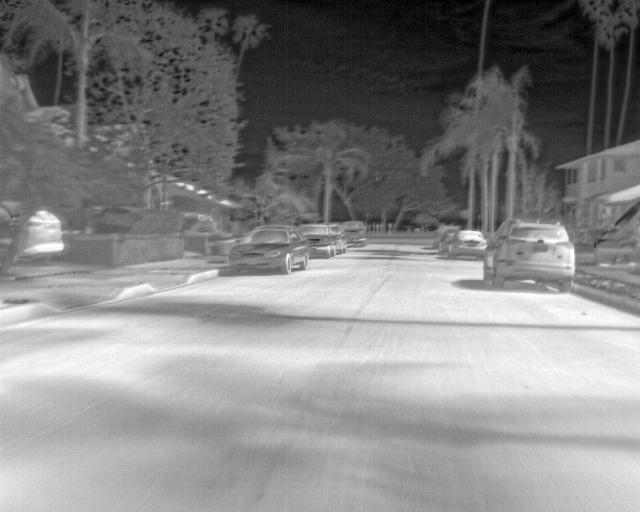car: (482, 217, 576, 293), (228, 222, 308, 277), (13, 208, 65, 263), (298, 222, 335, 259), (450, 228, 486, 257), (341, 219, 367, 249), (331, 220, 347, 253), (436, 228, 451, 255)
